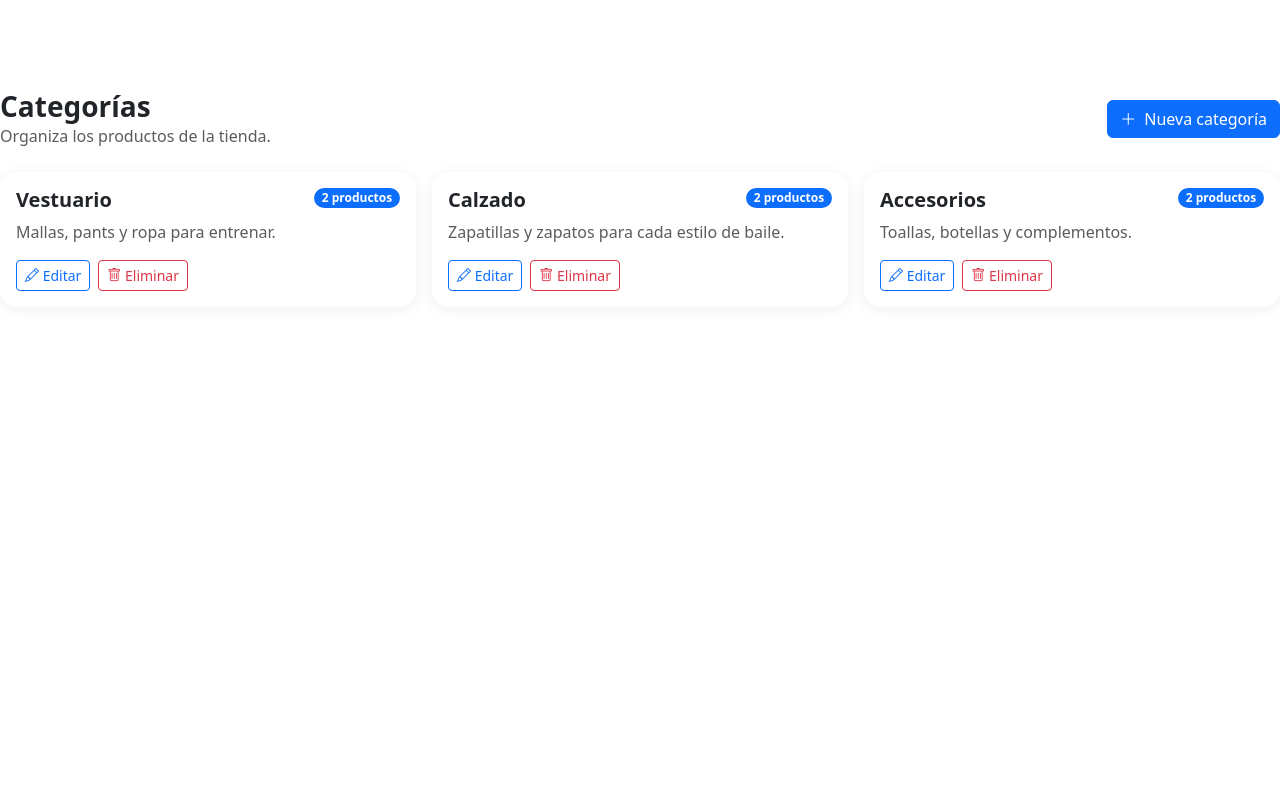
Test: admin/views/CategoriasView › crea una categoría válida, la guarda y cierra el modal
Click the button "Nueva categoría": (1194, 119) [1107, 100, 1279, 138]
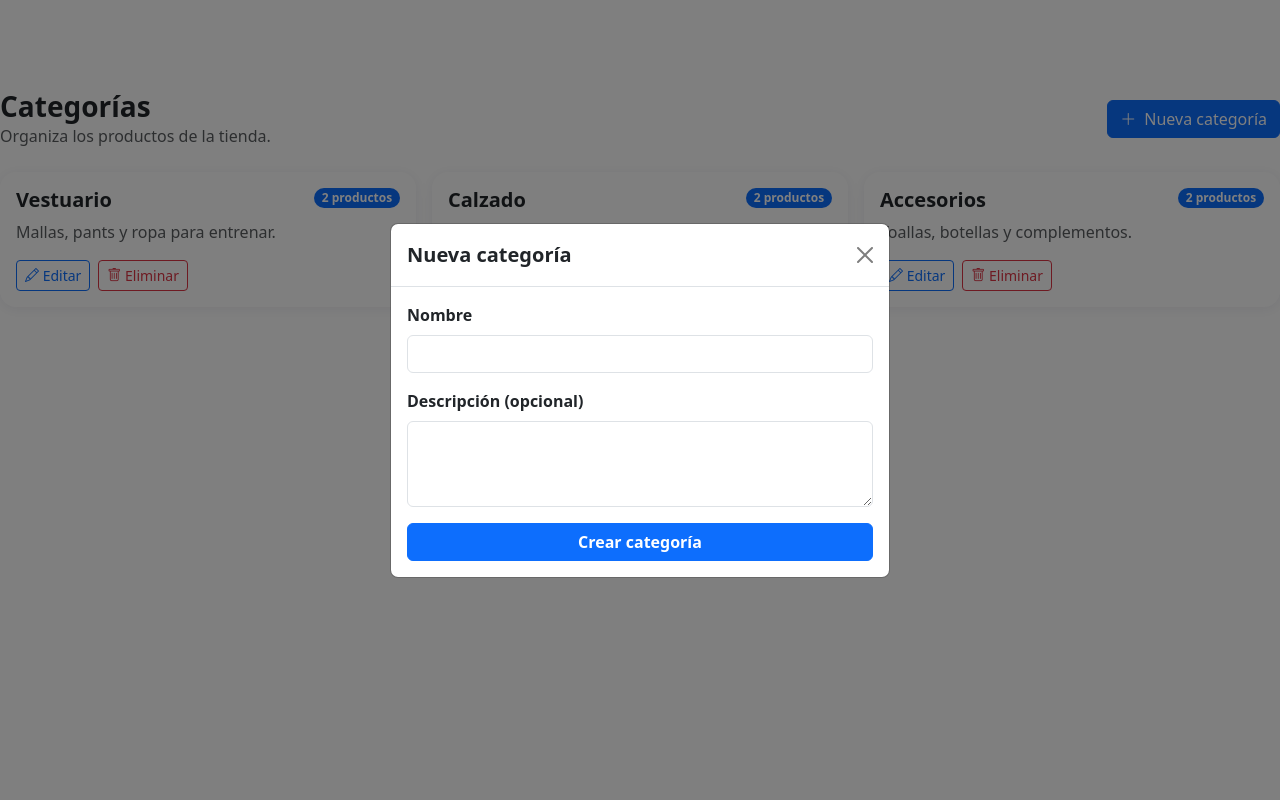
In the field labelled "Nombre": (640, 354) [407, 334, 873, 372], type "Música"
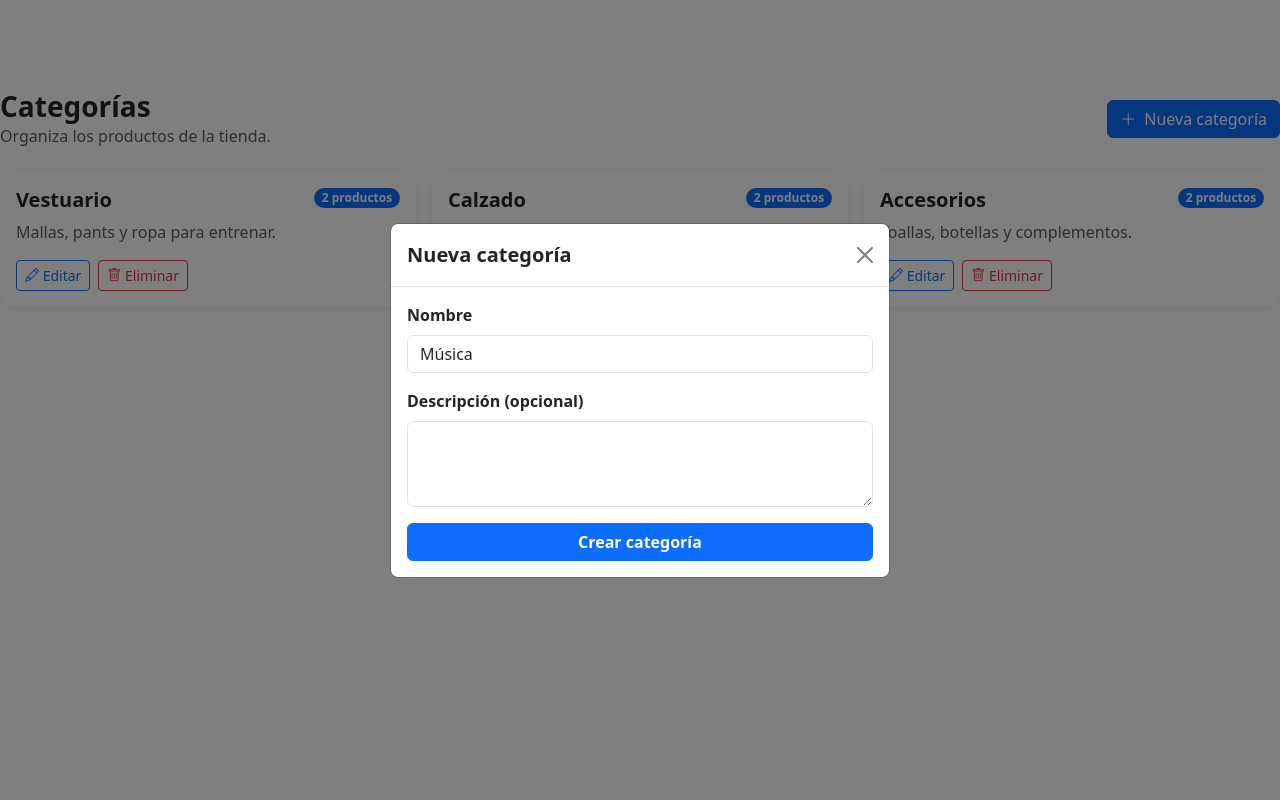
Click the button "Crear categoría": (640, 542) [407, 522, 873, 560]
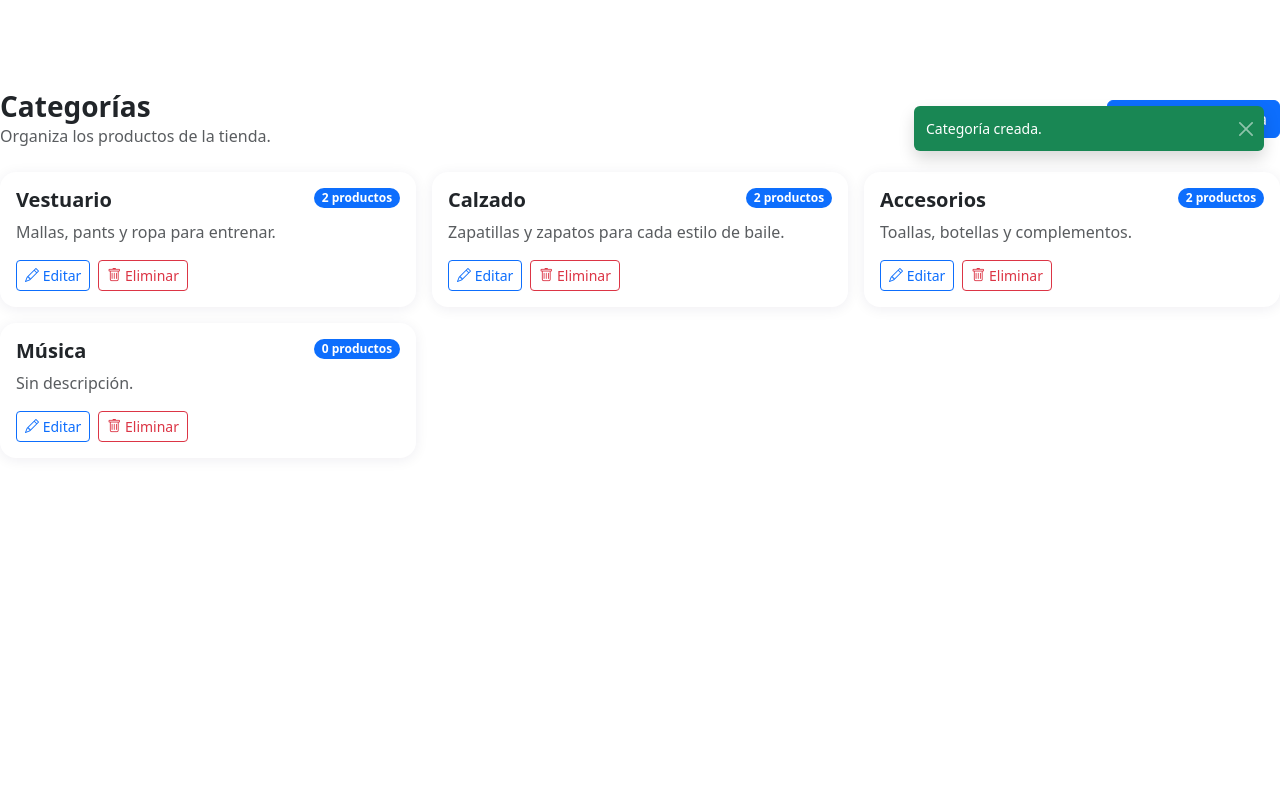
Result: the dialog is gone
